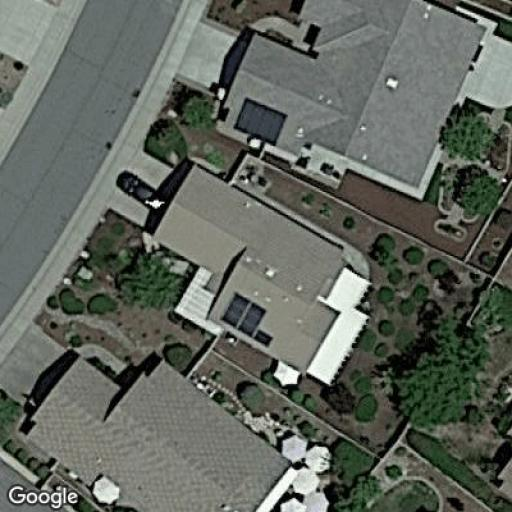solar-panel: (222, 290, 275, 347), (232, 94, 287, 146)
